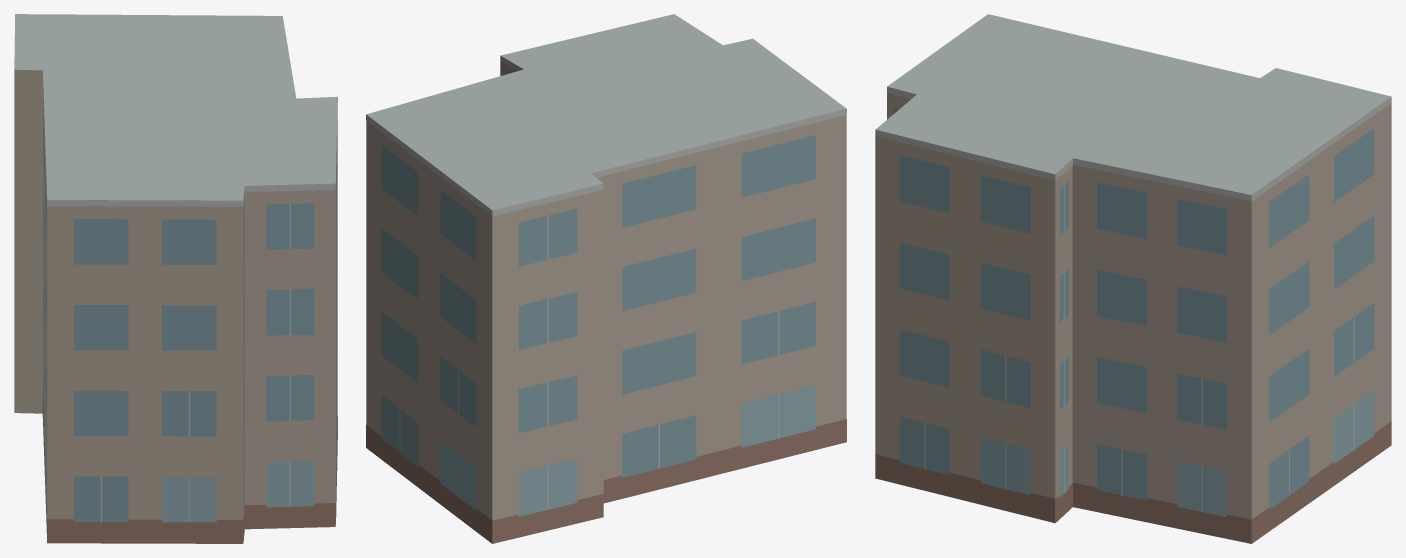
Rendered from survey-upis-32610123.glb.
The picture shows the model from 3 angles, left to right: view 1: azimuth 30°, elevation 25°; view 2: azimuth 150°, elevation 25°; view 3: azimuth 270°, elevation 25°; orthographic projection. The views are drawn at different scales.
Visible parts, largest first — view 1: survey-upis-32610123.tmp; view 2: survey-upis-32610123.tmp; view 3: survey-upis-32610123.tmp.
Part boxes in pixels (x1,y1,x2,y2): survey-upis-32610123.tmp: [14, 14, 337, 543]; survey-upis-32610123.tmp: [366, 14, 846, 543]; survey-upis-32610123.tmp: [875, 14, 1391, 543].
Size of the model in its own units: 14.81 by 13.3 by 17.84.
